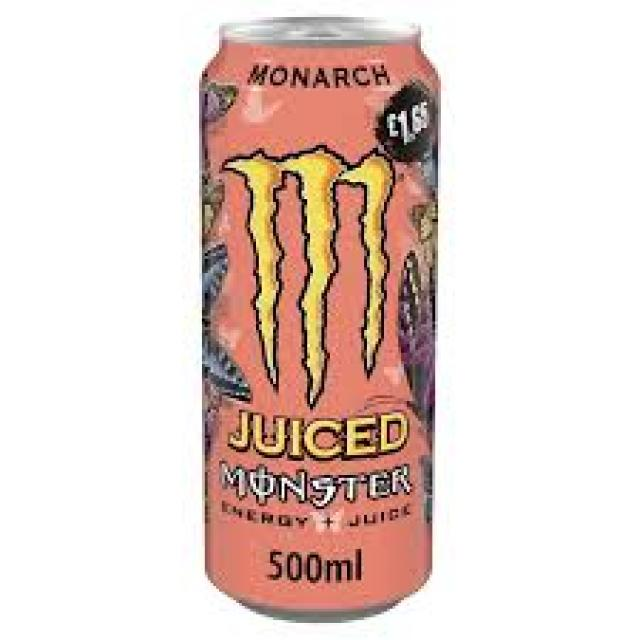Cans: (184, 6, 448, 632)
